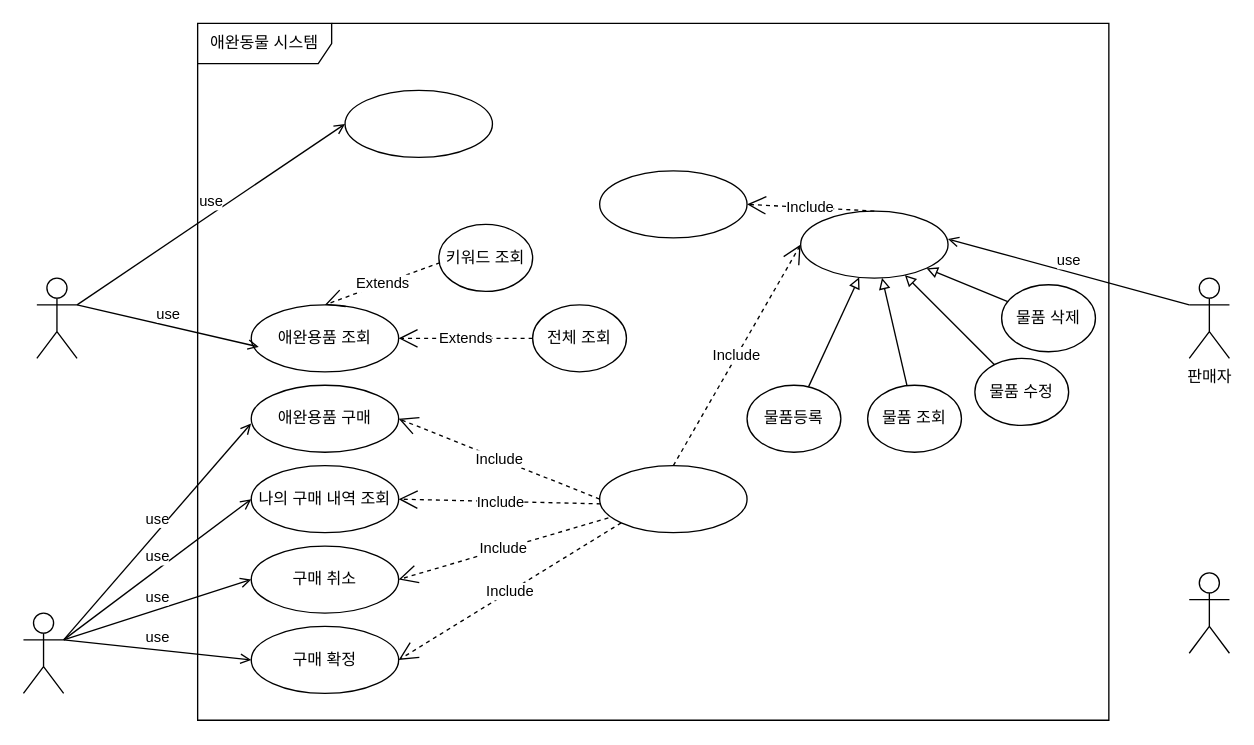
Image size: 1254x745. Some labels were removed from this diagram. Each missing label, with the box of its shape:
계정 전환: (598, 170, 747, 238)
관리자: (1188, 572, 1229, 653)
로그인: (598, 464, 747, 533)
비회원: (36, 277, 77, 358)
애완 용품 서비스: (799, 210, 948, 278)
회원: (22, 612, 64, 693)
회원가입: (344, 89, 492, 157)
